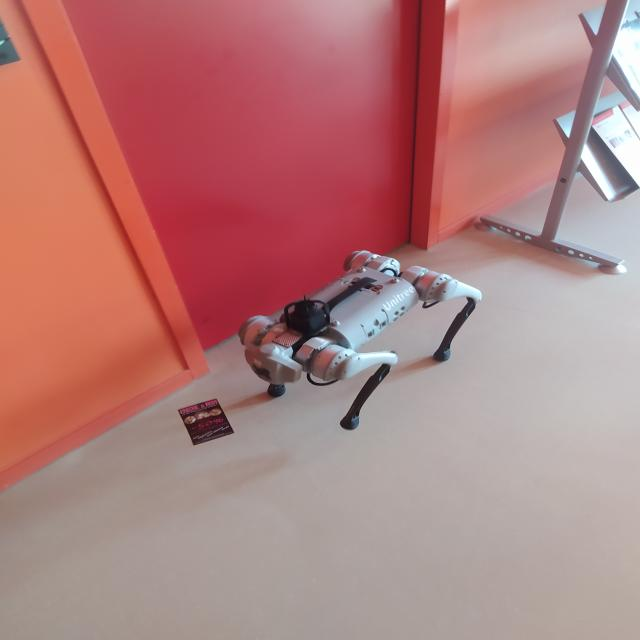unitree-go1-robot: (238, 255, 482, 433)
